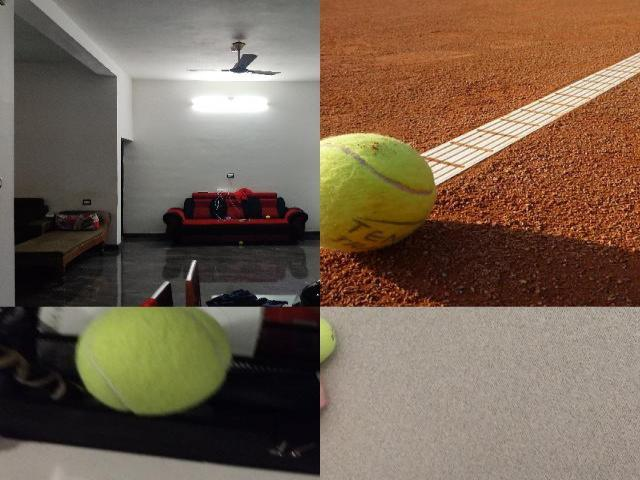tennis-ball: (74, 306, 233, 416), (320, 132, 437, 254), (320, 312, 336, 368)
